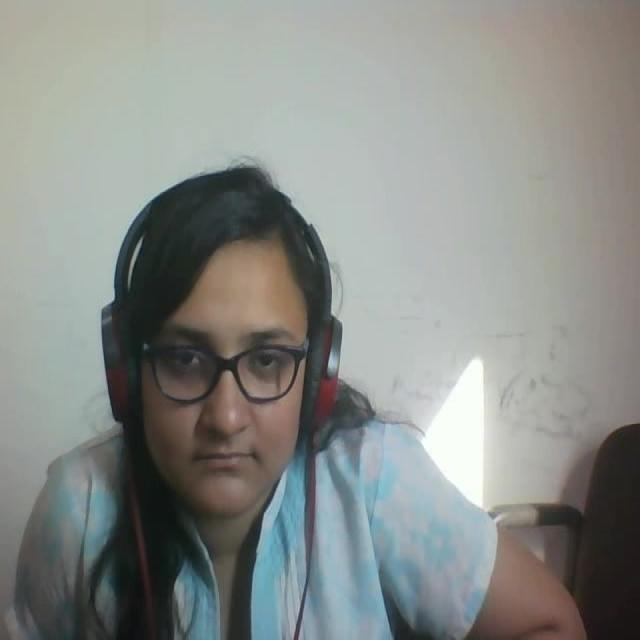Engaged: (91, 162, 365, 538)
